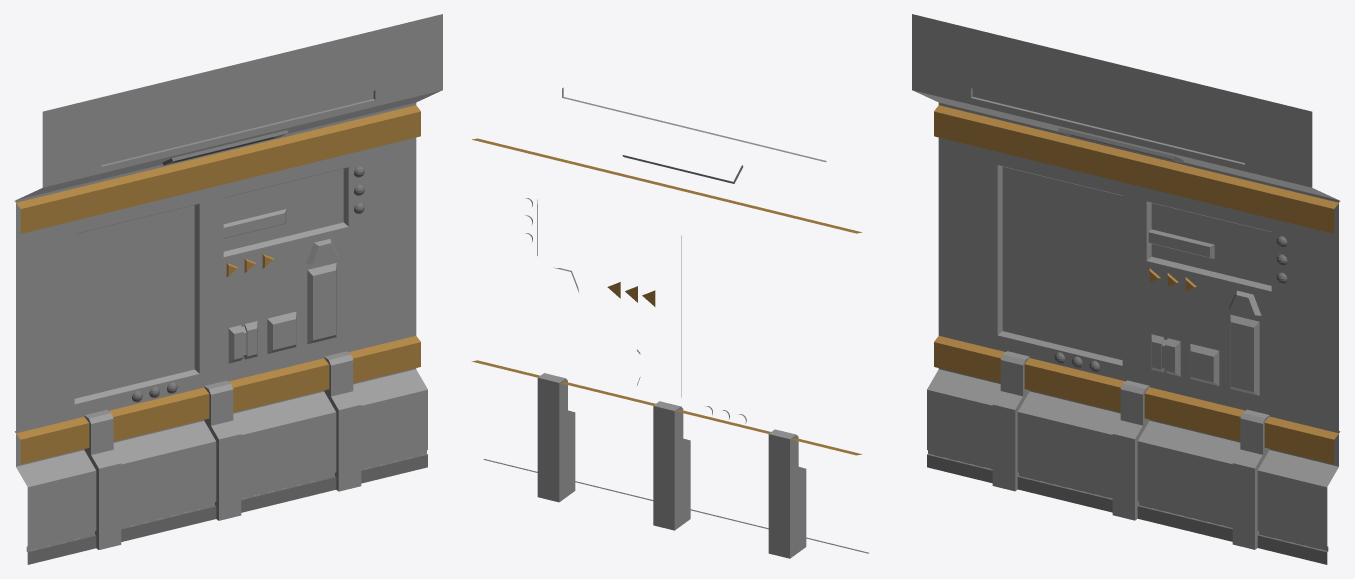
File: Wall_1.glb
3 views of the same model, side by side, from view 1: azimuth 30°, elevation 25°; view 2: azimuth 150°, elevation 25°; view 3: azimuth 330°, elevation 25° (orthographic). The views are drawn at different scales.
Parts seen in each view (by area): view 1: Main, Accent, DarkGrey; view 2: Main, Accent, DarkGrey; view 3: Main, Accent, DarkGrey.
Boxes of the visible parts, x1=… form: Main: x1=16, y1=14, x2=442, y2=551; Accent: x1=14, y1=105, x2=420, y2=464; DarkGrey: x1=27, y1=130, x2=427, y2=564; Main: x1=537, y1=87, x2=826, y2=558; Accent: x1=471, y1=138, x2=862, y2=455; DarkGrey: x1=483, y1=155, x2=868, y2=553; Main: x1=912, y1=14, x2=1338, y2=551; Accent: x1=934, y1=105, x2=1340, y2=464; DarkGrey: x1=927, y1=128, x2=1327, y2=564.
Bounding box in the file's own units: 4 × 4.43 × 0.5447.
